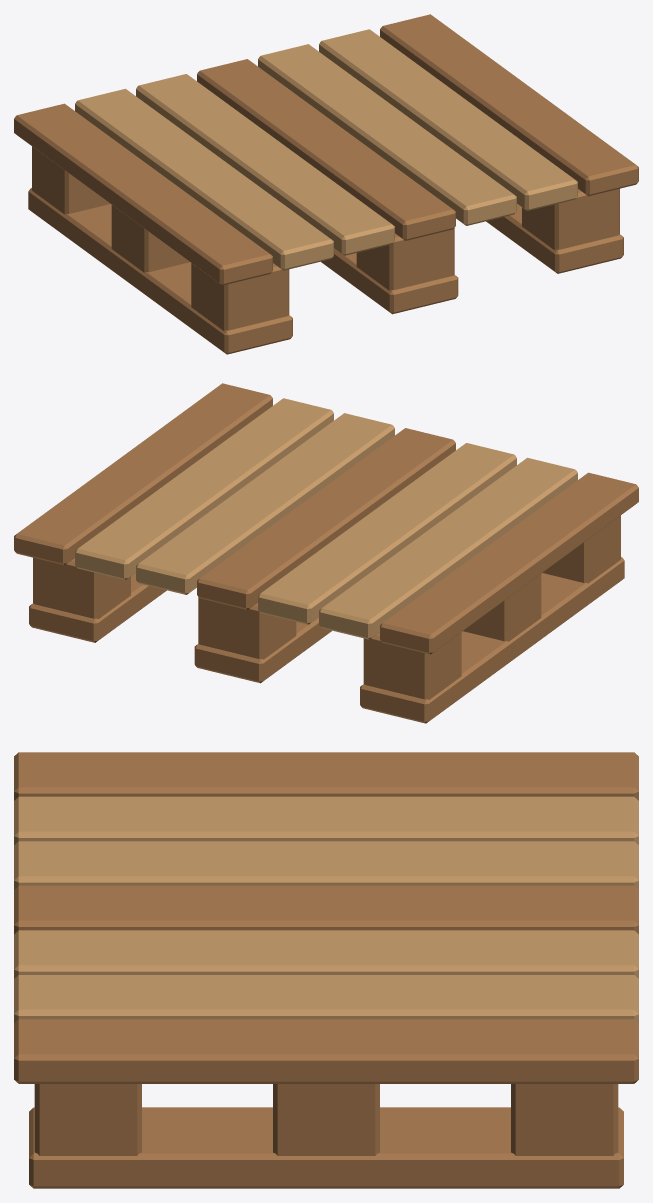
The model's file is dock-pallet.glb.
3 views of the same model, one above another, from view 1: azimuth 30°, elevation 25°; view 2: azimuth 150°, elevation 25°; view 3: azimuth 270°, elevation 25° (orthographic). The views are drawn at different scales.
Visible parts, largest first — view 1: Deck board, Deck board.001, Deck board.002, Deck board.005, Deck board.006, Deck board.004, Deck board.003, Bottom runner, Spacer block.002, Spacer block.005, Spacer block.008, Bottom runner.001 (+3 smaller); view 2: Deck board, Deck board.001, Deck board.002, Deck board.005, Deck board.006, Deck board.004, Deck board.003, Bottom runner, Spacer block, Spacer block.003, Spacer block.006, Bottom runner.001 (+3 smaller); view 3: Deck board.006, Bottom runner.002, Deck board.001, Deck board.003, Deck board.005, Deck board, Deck board.002, Deck board.004, Spacer block.006, Spacer block.008, Spacer block.007.
Boxes of the visible parts, <box> form: Deck board: <box>14,103,272,285</box>; Deck board.001: <box>75,88,333,270</box>; Deck board.002: <box>136,74,394,255</box>; Deck board.005: <box>319,29,577,210</box>; Deck board.006: <box>380,14,638,196</box>; Deck board.004: <box>258,44,516,225</box>; Deck board.003: <box>197,59,455,240</box>; Bottom runner: <box>28,188,292,354</box>; Spacer block.002: <box>191,263,289,330</box>; Spacer block.005: <box>356,228,454,290</box>; Spacer block.008: <box>522,188,619,250</box>; Bottom runner.001: <box>321,248,458,314</box>; Deck board: <box>380,472,638,654</box>; Deck board.001: <box>319,457,577,639</box>; Deck board.002: <box>258,443,516,624</box>; Deck board.005: <box>75,398,333,579</box>; Deck board.006: <box>14,383,272,565</box>; Deck board.004: <box>136,413,394,594</box>; Deck board.003: <box>197,428,455,609</box>; Bottom runner: <box>360,557,624,723</box>; Spacer block: <box>363,632,461,699</box>; Spacer block.003: <box>198,597,296,659</box>; Spacer block.006: <box>33,557,130,619</box>; Bottom runner.001: <box>194,617,331,683</box>; Deck board.006: <box>14,1019,638,1083</box>; Bottom runner.002: <box>29,1107,623,1188</box>; Deck board.001: <box>14,796,638,844</box>; Deck board.003: <box>14,885,638,934</box>; Deck board.005: <box>14,975,638,1023</box>; Deck board: <box>14,752,638,800</box>; Deck board.002: <box>14,841,638,889</box>; Deck board.004: <box>14,930,638,978</box>; Spacer block.006: <box>511,1084,618,1155</box>; Spacer block.008: <box>34,1084,141,1155</box>; Spacer block.007: <box>273,1084,379,1155</box>.
Size of the model in its own units: 1.22 by 0.263 by 1.05.
